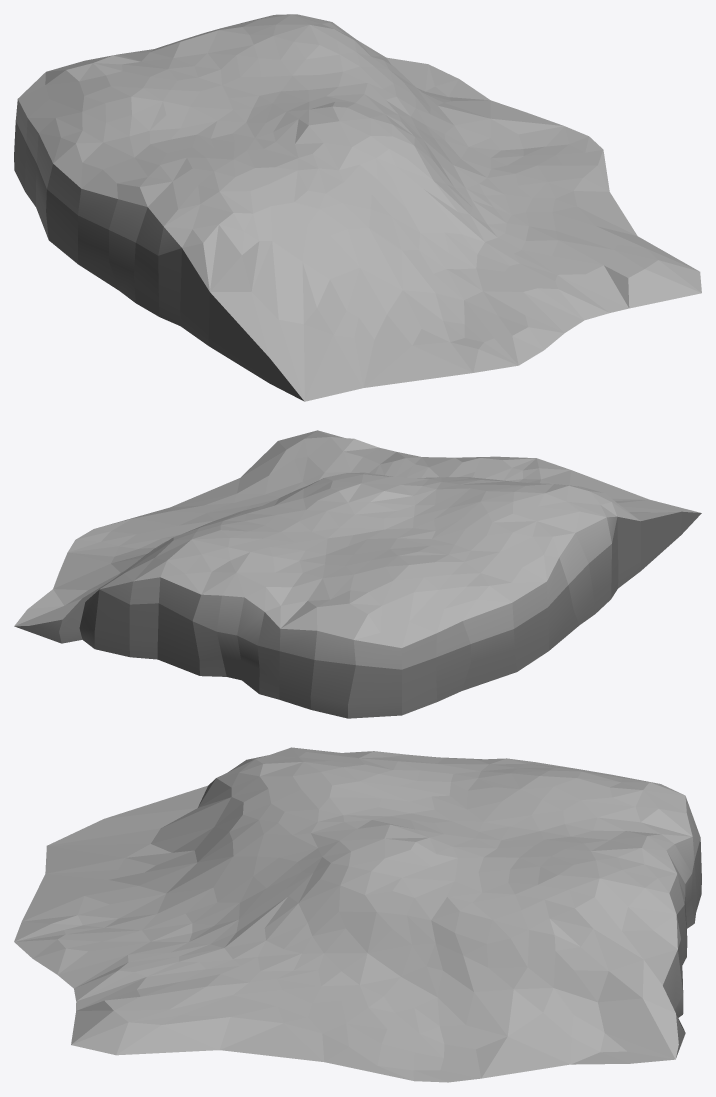
Rendered from SM_Gen_Env_Ground_River_Dirt_Large_02.glb.
3 renders of one model, top to bottom at view 1: azimuth 30°, elevation 25°; view 2: azimuth 150°, elevation 25°; view 3: azimuth 270°, elevation 25°, orthographic. The views are drawn at different scales.
Parts seen in each view (by area): view 1: SM_Gen_Env_Ground_River_Dirt_Large_02; view 2: SM_Gen_Env_Ground_River_Dirt_Large_02; view 3: SM_Gen_Env_Ground_River_Dirt_Large_02.
Boxes of the visible parts, x1,y1,x2,y2 form: SM_Gen_Env_Ground_River_Dirt_Large_02: [14, 14, 701, 401]; SM_Gen_Env_Ground_River_Dirt_Large_02: [14, 430, 701, 718]; SM_Gen_Env_Ground_River_Dirt_Large_02: [14, 747, 701, 1082].
Size of the model in its own units: 28.37 by 5.76 by 32.91.
Materials: 1 (1 with a texture image).
